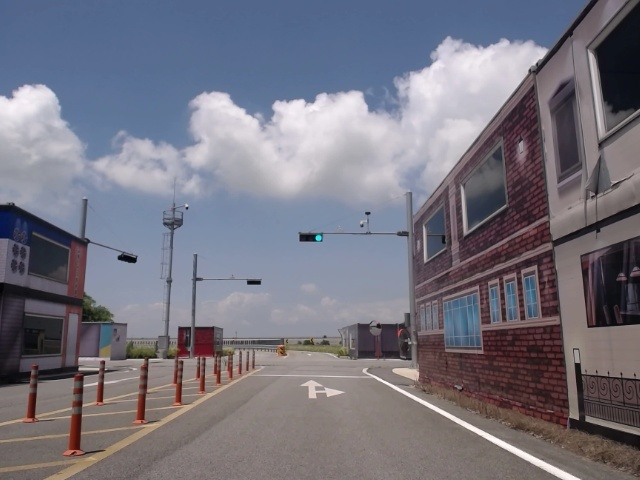green_3: (300, 234, 323, 241)
